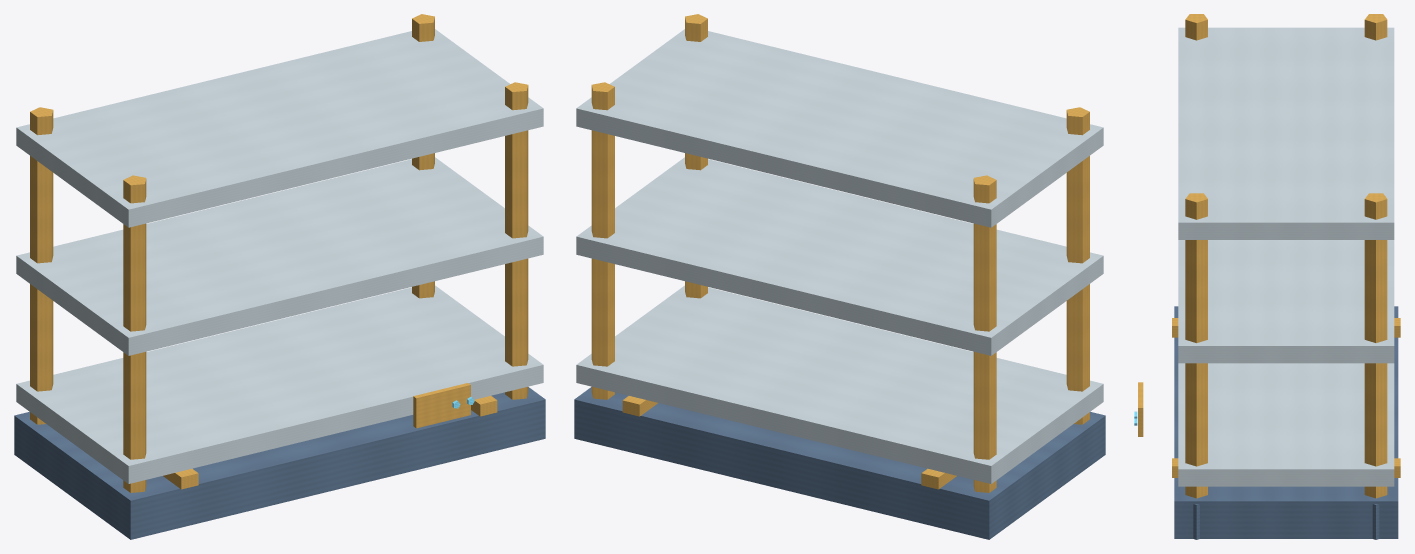
File: atlas100-s057-a06.lod1.glb
The picture shows the model from 3 angles, left to right: view 1: azimuth 30°, elevation 25°; view 2: azimuth 150°, elevation 25°; view 3: azimuth 270°, elevation 25°; orthographic projection. The views are drawn at different scales.
Parts seen in each view (by area): view 1: atlas100-s057-a06:part-013, atlas100-s057-a06:part-012, atlas100-s057-a06:part-011, atlas100-s057-a06:part-000, atlas100-s057-a06:part-005, atlas100-s057-a06:part-009, atlas100-s057-a06:part-003, atlas100-s057-a06:part-014, atlas100-s057-a06:part-007; view 2: atlas100-s057-a06:part-013, atlas100-s057-a06:part-011, atlas100-s057-a06:part-012, atlas100-s057-a06:part-000, atlas100-s057-a06:part-003, atlas100-s057-a06:part-007, atlas100-s057-a06:part-005, atlas100-s057-a06:part-009; view 3: atlas100-s057-a06:part-013, atlas100-s057-a06:part-012, atlas100-s057-a06:part-011, atlas100-s057-a06:part-000, atlas100-s057-a06:part-007, atlas100-s057-a06:part-009, atlas100-s057-a06:part-003, atlas100-s057-a06:part-005, atlas100-s057-a06:part-014.
Boxes of the visible parts, bbox=[...] form: atlas100-s057-a06:part-013: bbox=[16, 29, 543, 227]; atlas100-s057-a06:part-012: bbox=[16, 157, 543, 355]; atlas100-s057-a06:part-011: bbox=[16, 285, 543, 483]; atlas100-s057-a06:part-000: bbox=[14, 387, 545, 539]; atlas100-s057-a06:part-005: bbox=[123, 175, 146, 492]; atlas100-s057-a06:part-009: bbox=[505, 82, 528, 399]; atlas100-s057-a06:part-003: bbox=[30, 107, 53, 424]; atlas100-s057-a06:part-014: bbox=[413, 383, 470, 428]; atlas100-s057-a06:part-007: bbox=[412, 14, 434, 298]; atlas100-s057-a06:part-013: bbox=[576, 29, 1103, 227]; atlas100-s057-a06:part-011: bbox=[576, 285, 1103, 483]; atlas100-s057-a06:part-012: bbox=[576, 157, 1103, 355]; atlas100-s057-a06:part-000: bbox=[574, 387, 1105, 539]; atlas100-s057-a06:part-003: bbox=[973, 175, 996, 492]; atlas100-s057-a06:part-007: bbox=[591, 82, 614, 399]; atlas100-s057-a06:part-005: bbox=[1066, 107, 1089, 424]; atlas100-s057-a06:part-009: bbox=[685, 14, 707, 298]; atlas100-s057-a06:part-013: bbox=[1178, 27, 1394, 239]; atlas100-s057-a06:part-012: bbox=[1178, 240, 1394, 363]; atlas100-s057-a06:part-011: bbox=[1178, 363, 1394, 486]; atlas100-s057-a06:part-000: bbox=[1174, 306, 1398, 538]; atlas100-s057-a06:part-007: bbox=[1364, 193, 1387, 498]; atlas100-s057-a06:part-009: bbox=[1185, 193, 1207, 498]; atlas100-s057-a06:part-003: bbox=[1364, 14, 1387, 40]; atlas100-s057-a06:part-005: bbox=[1185, 14, 1207, 40]; atlas100-s057-a06:part-014: bbox=[1138, 382, 1143, 436].
Size of the model in its own units: 2.89 by 2.3 by 1.66.
Materials: 4 (4 with a texture image).
